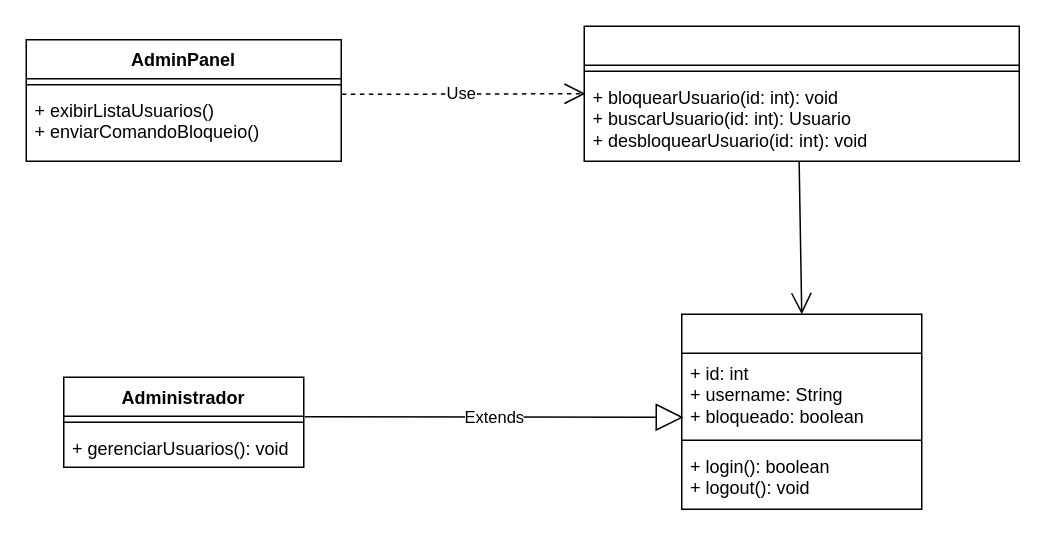
The diagram is 1046 pixels wide and 540 high, and some of its shapes have lost their labels. The box of each missing label's shape, as (x1, y1, x2, y2) in pixels:
UserController: (583, 25, 1019, 161)
Usuário: (680, 313, 922, 509)
